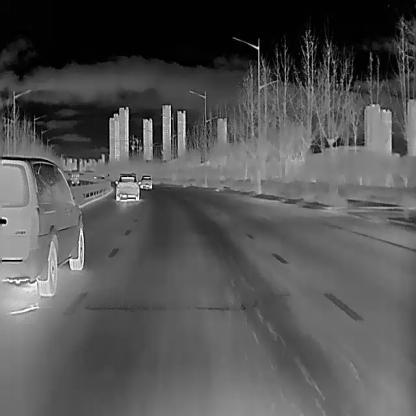car: (0, 155, 83, 295), (115, 172, 141, 201), (139, 174, 152, 188), (70, 168, 80, 184)
